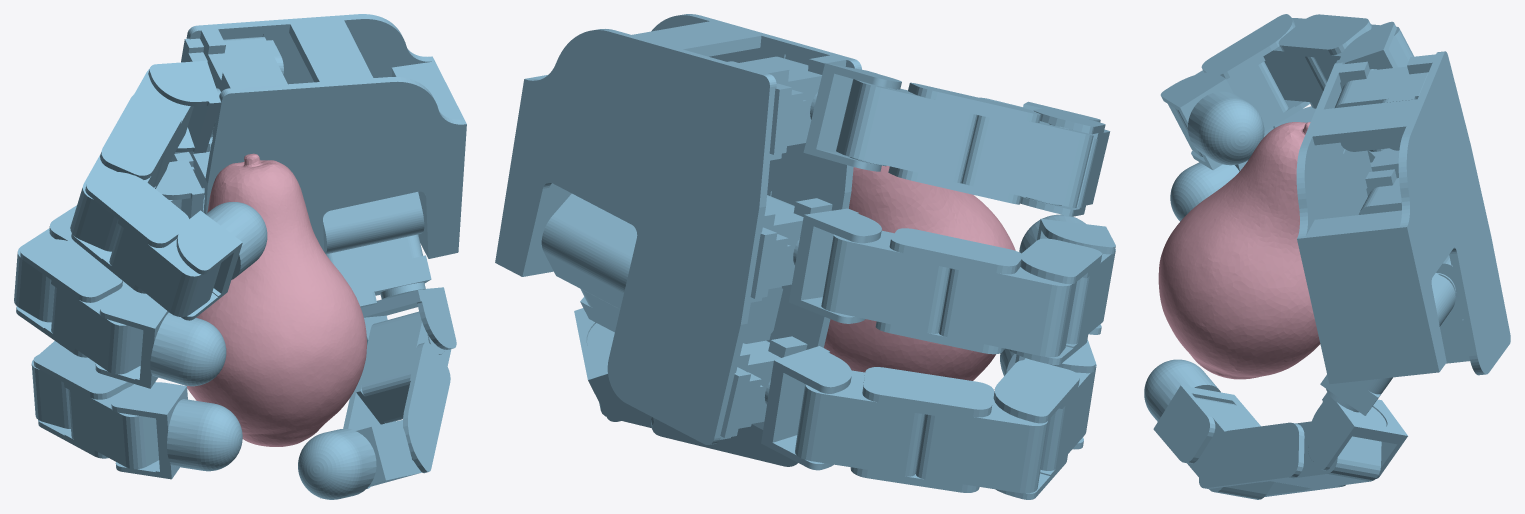
3 views of the same model, side by side, from view 1: azimuth 30°, elevation 25°; view 2: azimuth 150°, elevation 25°; view 3: azimuth 270°, elevation 25° (orthographic). The views are drawn at different scales.
Visible parts, largest first — view 1: world; view 2: world; view 3: world.
Boxes of the visible parts, x1=… form: world: x1=14, y1=14, x2=466, y2=499; world: x1=495, y1=14, x2=1115, y2=499; world: x1=1144, y1=14, x2=1510, y2=499.
Bounding box in the file's own units: 0.1793 × 0.1599 × 0.1297.
